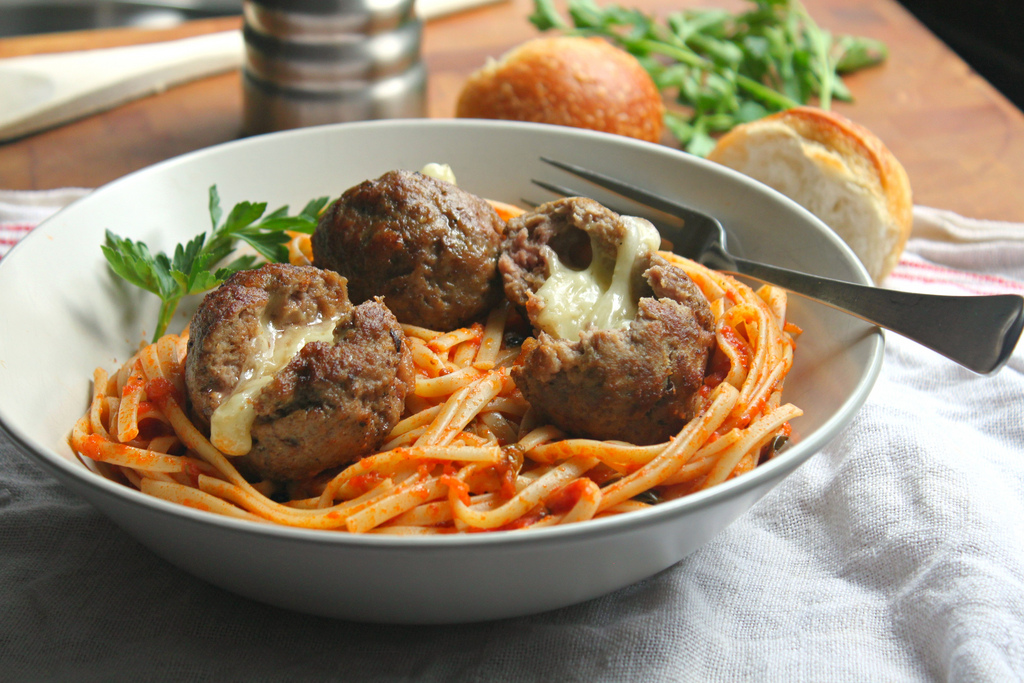meatballs: (490, 205, 709, 424), (196, 282, 408, 453), (314, 171, 488, 310)
plain spaghetti: (86, 174, 792, 521)
slice of bread: (707, 99, 929, 269)
